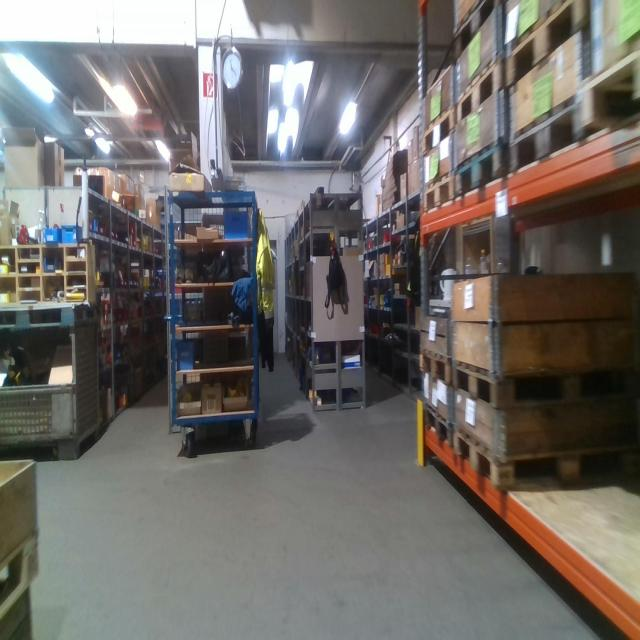pallet: (453, 424, 638, 485), (450, 354, 639, 405), (507, 3, 586, 90), (506, 100, 581, 175), (580, 51, 640, 135), (455, 139, 510, 208), (454, 59, 505, 127), (450, 3, 503, 65), (423, 101, 455, 157), (421, 402, 453, 457), (422, 163, 456, 212), (419, 345, 451, 384)
small_load_carrier: (223, 209, 249, 239)
stillage: (1, 315, 104, 470)
